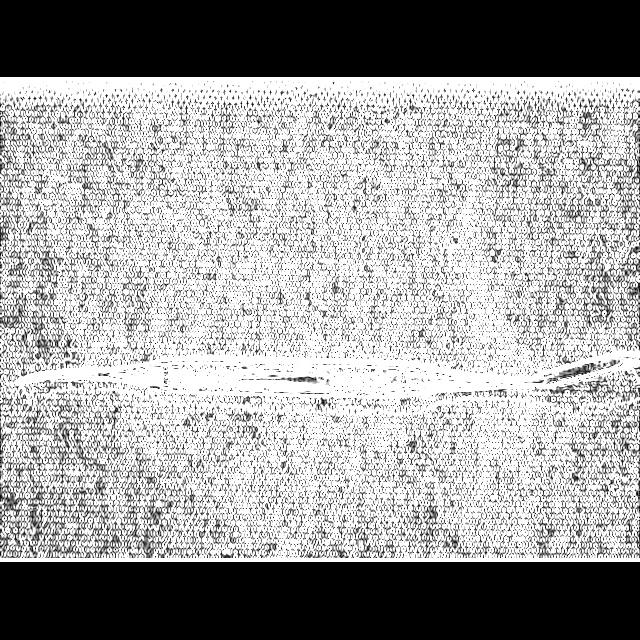elevador: (41, 354, 639, 405)
